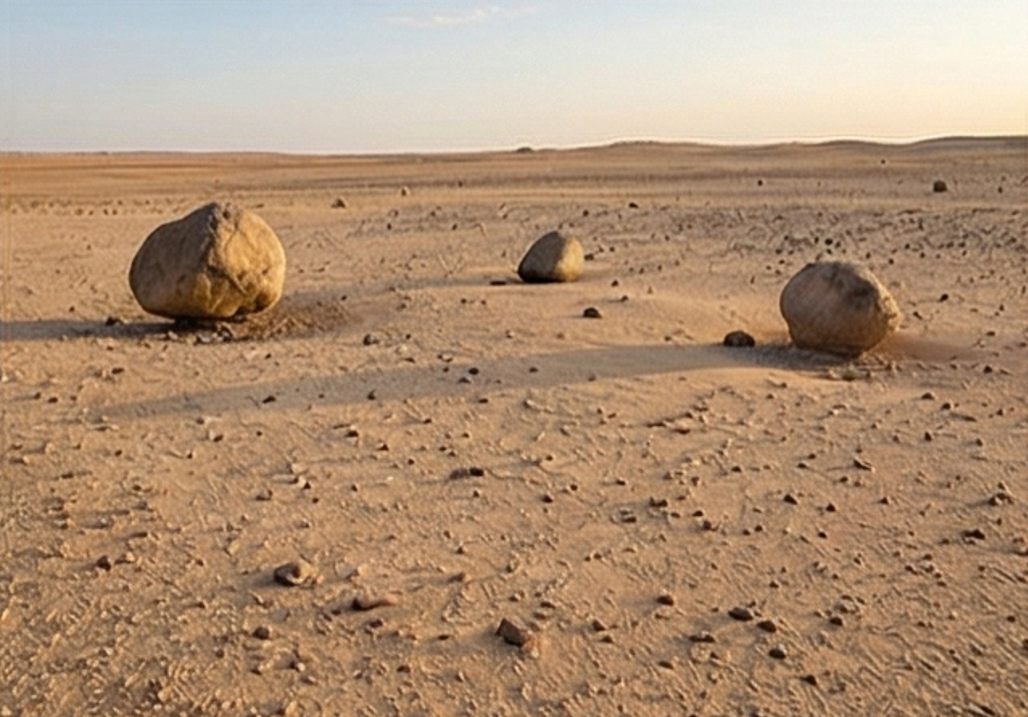rocks: (130, 203, 285, 319), (782, 263, 901, 353), (517, 231, 584, 282)
